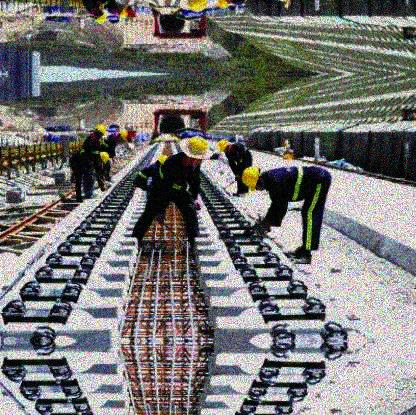helmet: (179, 136, 213, 172), (241, 167, 266, 192), (91, 10, 108, 25), (94, 125, 107, 138), (219, 140, 231, 154), (155, 154, 167, 166), (117, 129, 129, 141), (98, 151, 109, 164)
